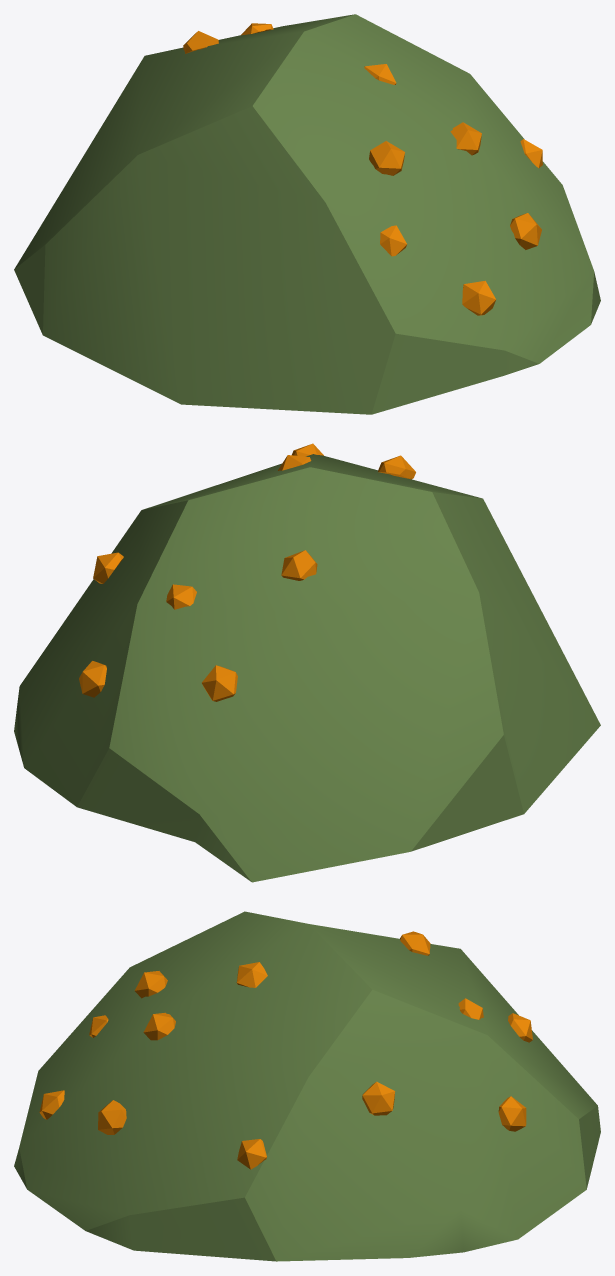
Rendered from shrub.fbx.
3 renders of one model, top to bottom at view 1: azimuth 30°, elevation 25°; view 2: azimuth 150°, elevation 25°; view 3: azimuth 270°, elevation 25°, orthographic. The views are drawn at different scales.
Visible parts, largest first — view 1: Flower14; view 2: Flower14; view 3: Flower14.
Boxes of the visible parts, box(x1,y1,x2,y2) form: Flower14: box(14, 14, 600, 414); Flower14: box(14, 443, 600, 882); Flower14: box(14, 911, 600, 1261).
Size of the model in its own units: 1.71 by 0.9344 by 1.93.
